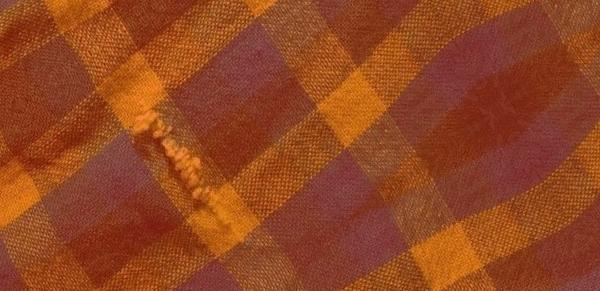knot: (126, 98, 242, 250)
